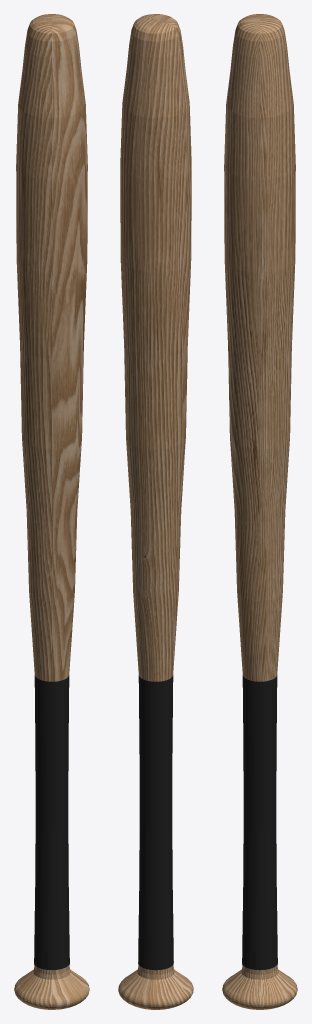
File: baseball_bat.fbx
3 renders of one model, left to right at view 1: azimuth 90°, elevation 25°; view 2: azimuth 150°, elevation 25°; view 3: azimuth 270°, elevation 25°, orthographic.
Parts seen in each view (by area): view 1: BaseballBat; view 2: BaseballBat; view 3: BaseballBat.
Part boxes in pixels (x1,y1,x2,y2): BaseballBat: [14, 14, 89, 1009]; BaseballBat: [118, 14, 193, 1009]; BaseballBat: [222, 14, 297, 1009].
Bounding box in the file's own units: 7.33 × 105 × 7.33.
